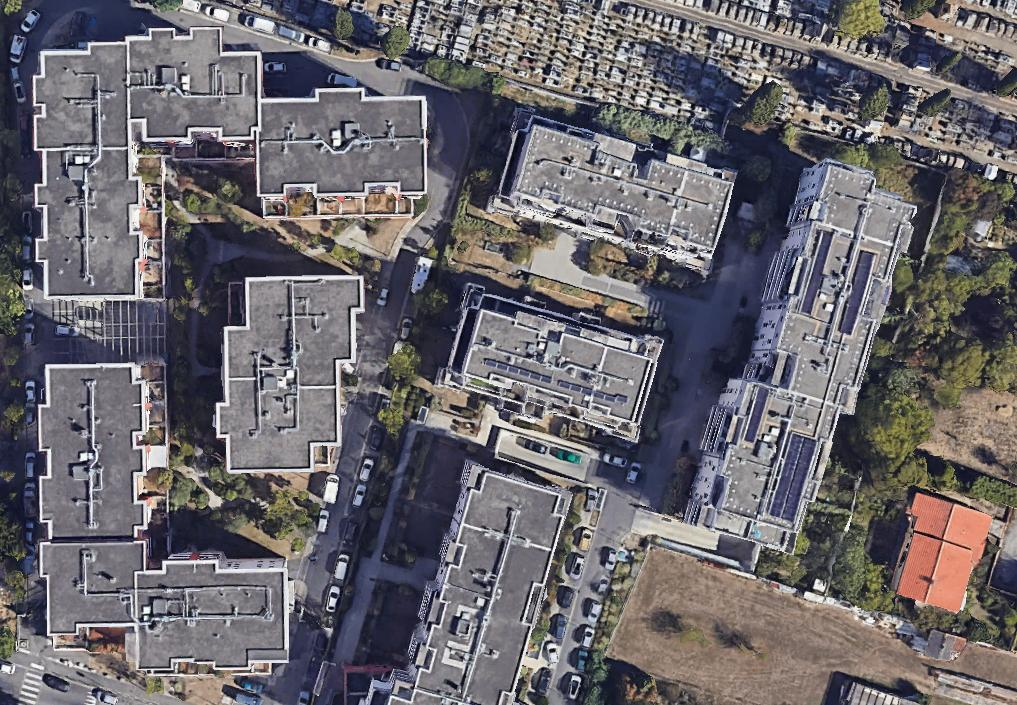immeuble: (676, 147, 926, 560), (389, 458, 576, 705), (486, 108, 739, 275), (436, 282, 666, 447), (216, 277, 363, 471), (38, 365, 145, 537), (258, 88, 425, 194), (132, 560, 289, 671), (35, 150, 141, 296), (128, 27, 259, 138), (41, 538, 148, 634), (33, 44, 125, 146)
maison: (885, 489, 993, 616)
